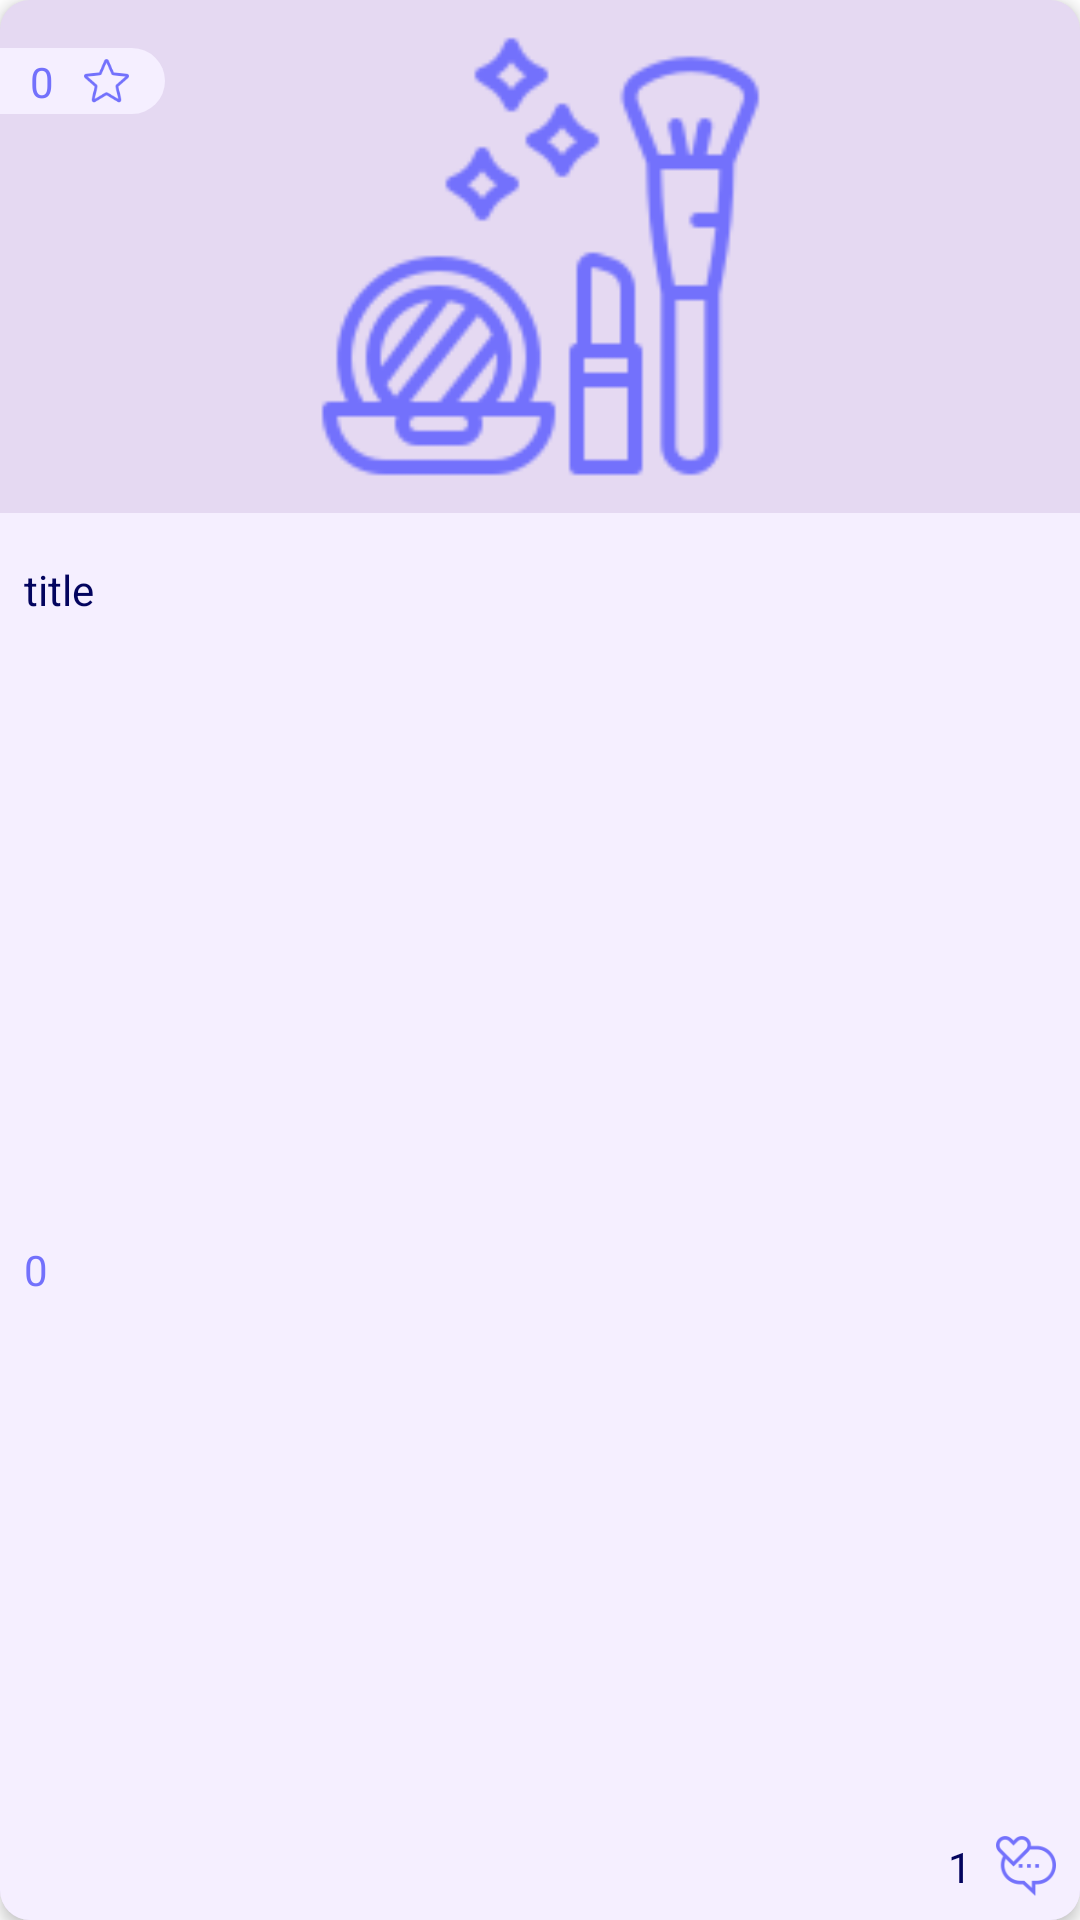

Icons on this 1080*1920 Android screen, each with the point to tap as (x=x, y=y):
review: (x=1026, y=1866)
star: (x=106, y=81)
